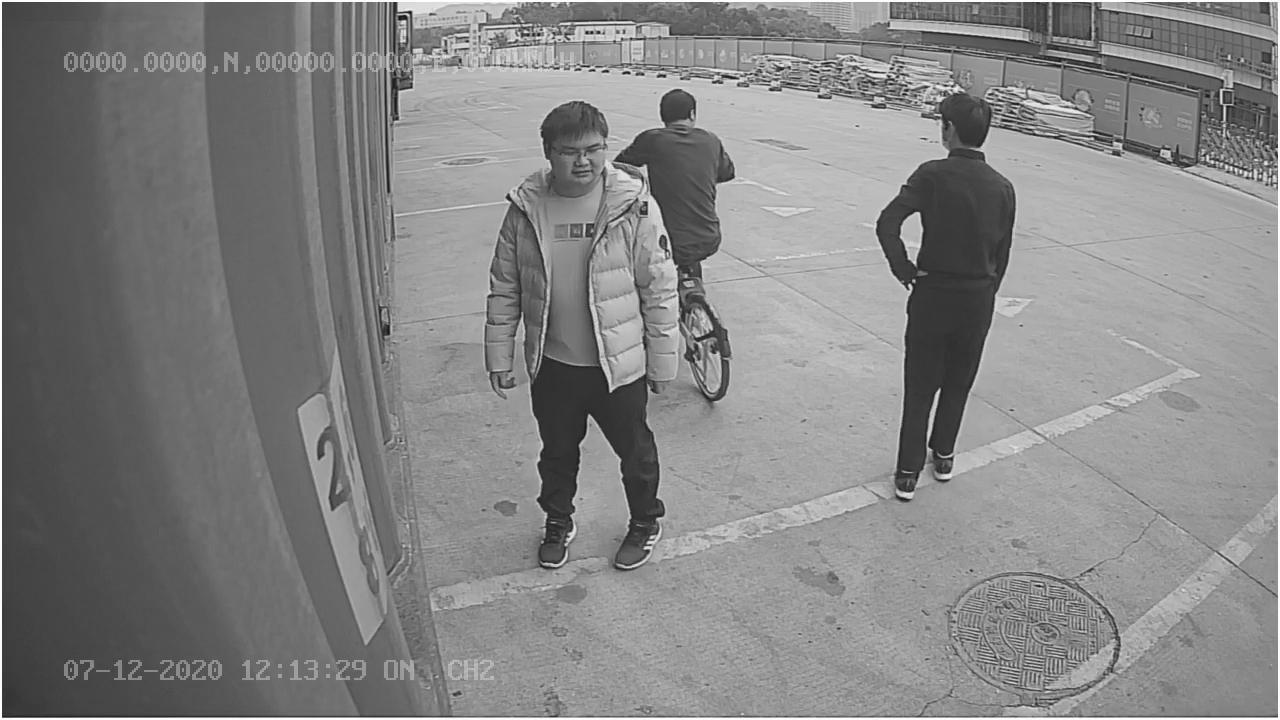person: (871, 85, 1020, 506)
